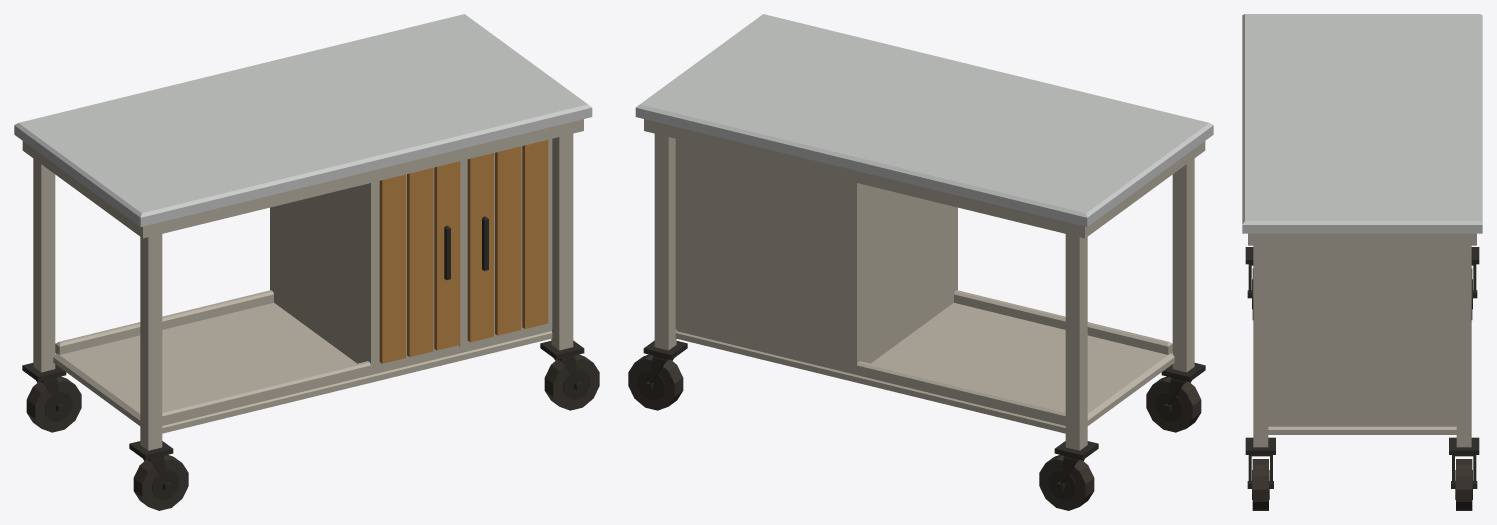
File: SM_Cart_KapeBody_01.fbx
The picture shows the model from 3 angles, left to right: view 1: azimuth 30°, elevation 25°; view 2: azimuth 150°, elevation 25°; view 3: azimuth 270°, elevation 25°; orthographic projection. The views are drawn at different scales.
Parts seen in each view (by area): view 1: SM_Cart_KapeBody_01; view 2: SM_Cart_KapeBody_01; view 3: SM_Cart_KapeBody_01.
Boxes of the visible parts, x1,y1,x2,y2 form: SM_Cart_KapeBody_01: (14, 14, 599, 510); SM_Cart_KapeBody_01: (628, 14, 1213, 510); SM_Cart_KapeBody_01: (1242, 14, 1482, 510).
Size of the model in its own units: 1.4 by 0.88 by 0.66.
1 material, 1 textured.
